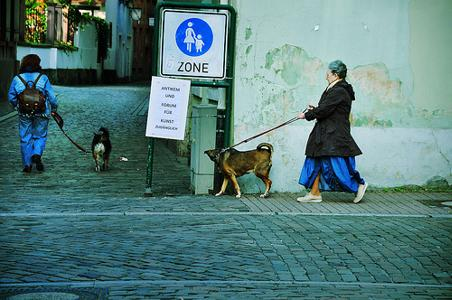person: (296, 61, 366, 203)
